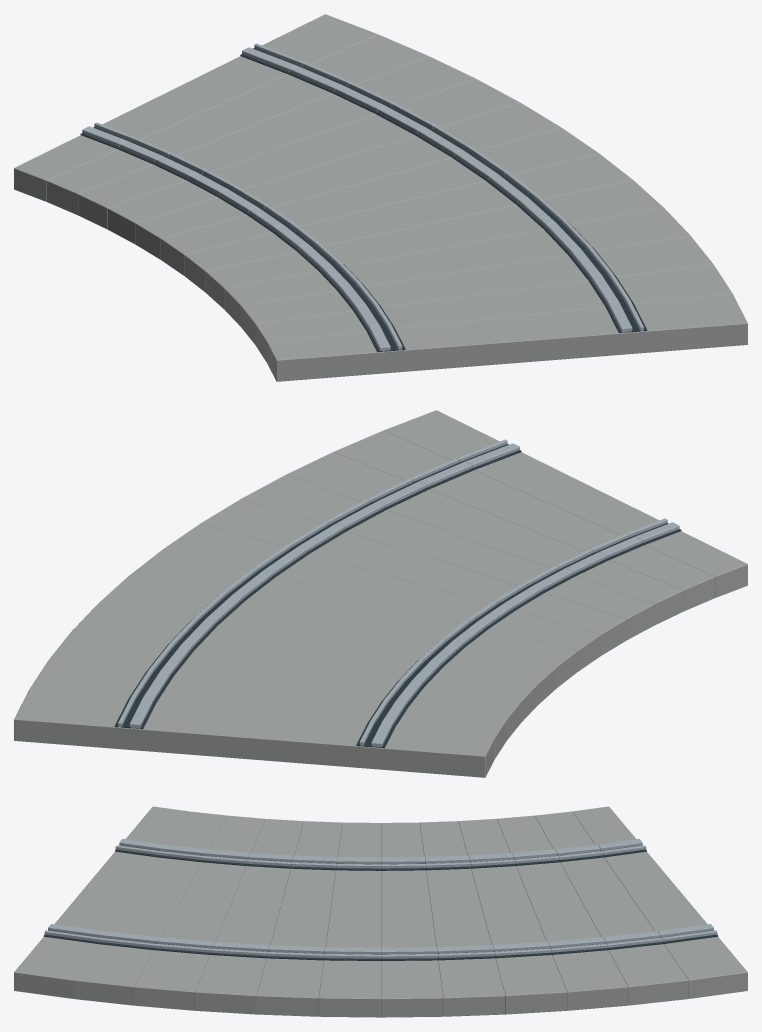
Rendered from b13_curved_streetcar_track_segment.glb.
3 renders of one model, top to bottom at view 1: azimuth 30°, elevation 25°; view 2: azimuth 150°, elevation 25°; view 3: azimuth 270°, elevation 25°, orthographic. The views are drawn at different scales.
Visible parts, largest first — view 1: b13_curved_streetcar_track_segment; view 2: b13_curved_streetcar_track_segment; view 3: b13_curved_streetcar_track_segment.
Part boxes in pixels (box(x1,y1,x2,y2)): b13_curved_streetcar_track_segment: box(14, 14, 747, 381); b13_curved_streetcar_track_segment: box(14, 410, 747, 777); b13_curved_streetcar_track_segment: box(14, 806, 747, 1017).
Size of the model in its own units: 3.06 by 0.17 by 4.93.
